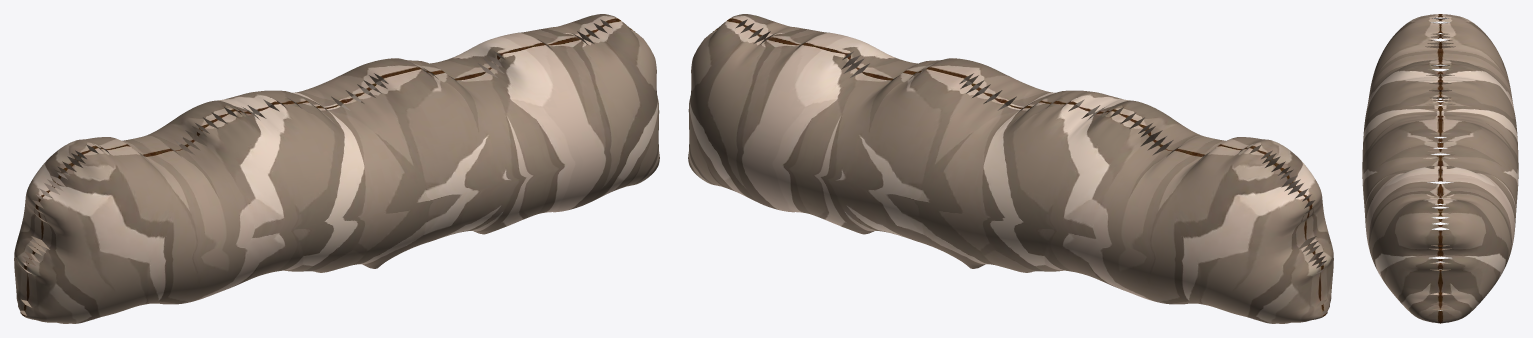
Rendered from cliff_segment.glb.
3 views of the same model, side by side, from view 1: azimuth 30°, elevation 25°; view 2: azimuth 150°, elevation 25°; view 3: azimuth 270°, elevation 25° (orthographic). The views are drawn at different scales.
Parts seen in each view (by area): view 1: cliff_segment; view 2: cliff_segment; view 3: cliff_segment.
Boxes of the visible parts, x1,y1,x2,y2 form: cliff_segment: [14, 14, 659, 323]; cliff_segment: [688, 14, 1333, 323]; cliff_segment: [1362, 14, 1518, 323].
Size of the model in its own units: 0.9883 by 0.2532 by 0.2912.
Materials: 1 (1 with a texture image).
